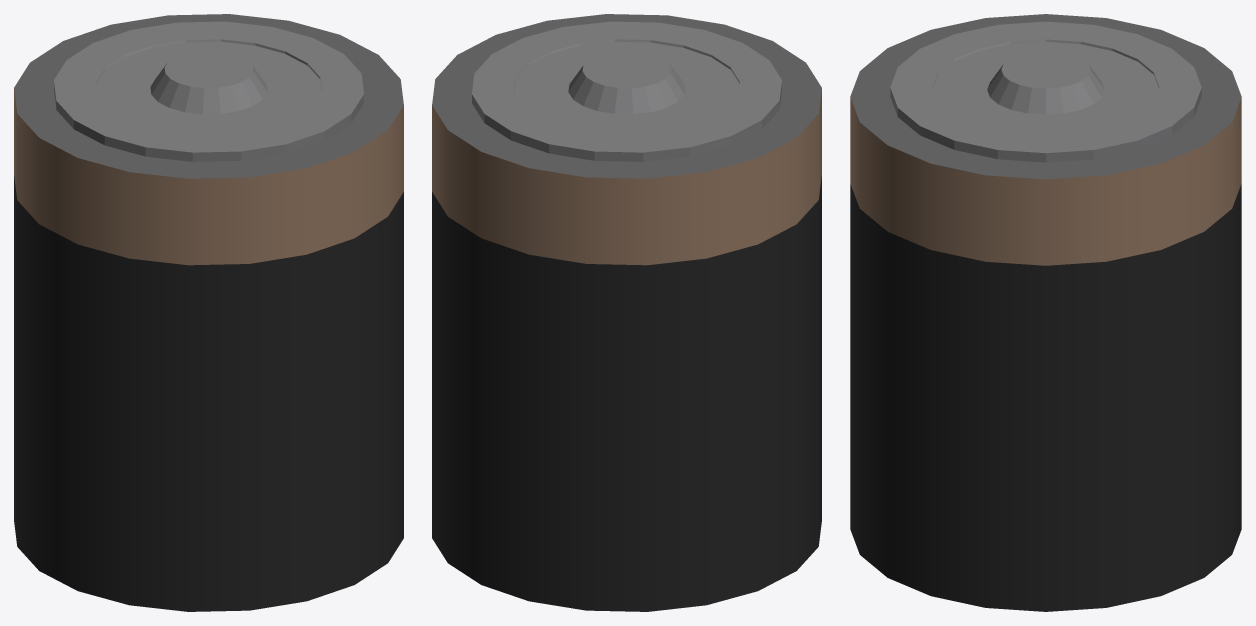
The model's file is LowPolyD4_BL.fbx.
The picture shows the model from 3 angles, left to right: view 1: azimuth 30°, elevation 25°; view 2: azimuth 150°, elevation 25°; view 3: azimuth 270°, elevation 25°; orthographic projection.
Visible parts, largest first — view 1: pCylinder1; view 2: pCylinder1; view 3: pCylinder1.
Boxes of the visible parts, x1=… form: pCylinder1: x1=14, y1=14, x2=403, y2=611; pCylinder1: x1=432, y1=14, x2=821, y2=611; pCylinder1: x1=850, y1=14, x2=1241, y2=611.
Bounding box in the file's own units: 2 × 2.63 × 2.
